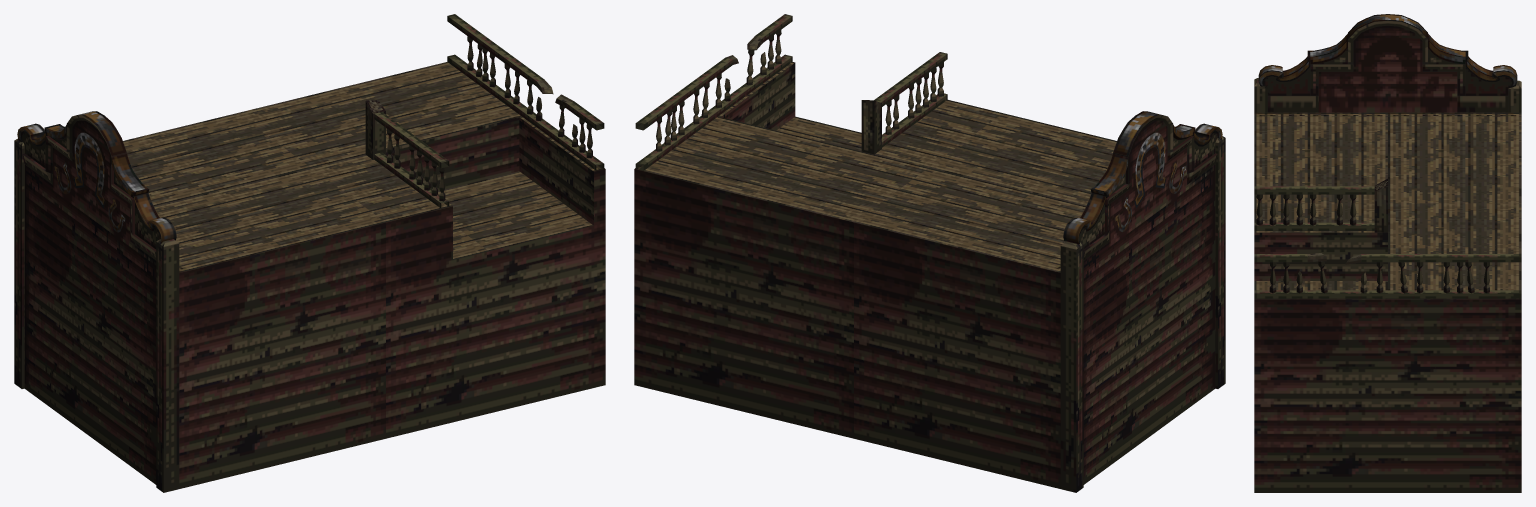
The model's file is EnvBdgMD_Wilderness_A_Outdoor_Shop_A_Broken.FBX.
3 renders of one model, left to right at view 1: azimuth 30°, elevation 25°; view 2: azimuth 150°, elevation 25°; view 3: azimuth 270°, elevation 25°, orthographic. The views are drawn at different scales.
Visible parts, largest first — view 1: EnvBdgMD_Wilderness_A_Outdoor_Shop_A_Broken; view 2: EnvBdgMD_Wilderness_A_Outdoor_Shop_A_Broken; view 3: EnvBdgMD_Wilderness_A_Outdoor_Shop_A_Broken.
Part boxes in pixels (x1,y1,x2,y2): EnvBdgMD_Wilderness_A_Outdoor_Shop_A_Broken: (14, 14, 605, 492); EnvBdgMD_Wilderness_A_Outdoor_Shop_A_Broken: (634, 14, 1225, 492); EnvBdgMD_Wilderness_A_Outdoor_Shop_A_Broken: (1254, 14, 1521, 492).
Size of the model in its own units: 855 by 590 by 500.
Materials: 1 (1 with a texture image).
